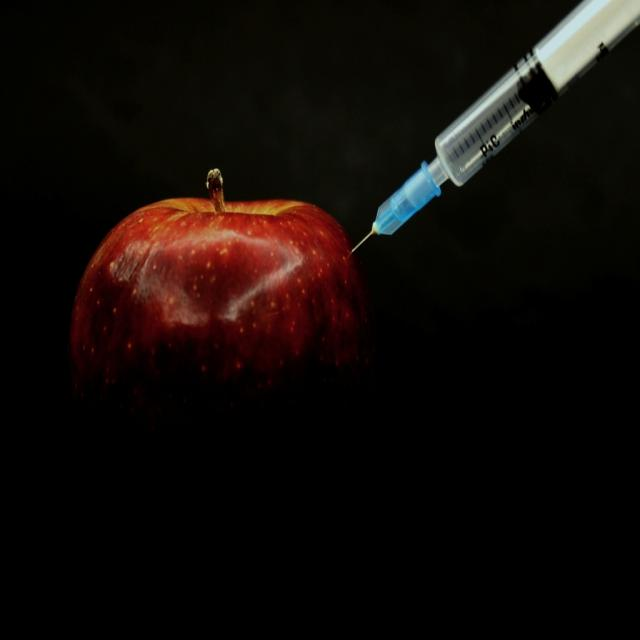Healty Apple: (62, 159, 370, 440)
